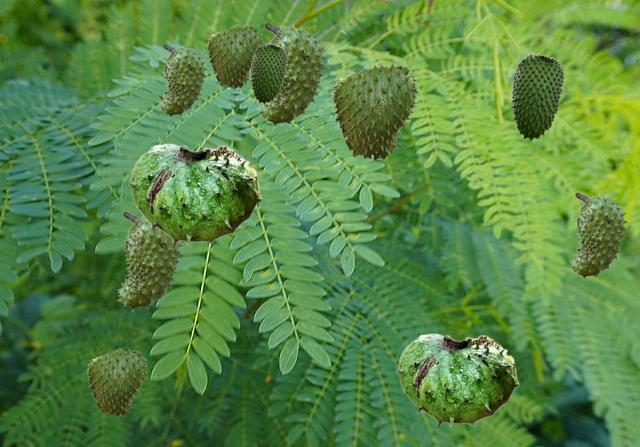guyabano: (128, 143, 261, 248), (396, 333, 518, 429), (332, 62, 419, 162), (257, 22, 329, 127), (116, 211, 185, 311), (569, 192, 629, 279), (511, 53, 563, 140), (87, 348, 147, 417), (158, 44, 208, 117), (207, 24, 263, 89), (250, 43, 286, 103)
